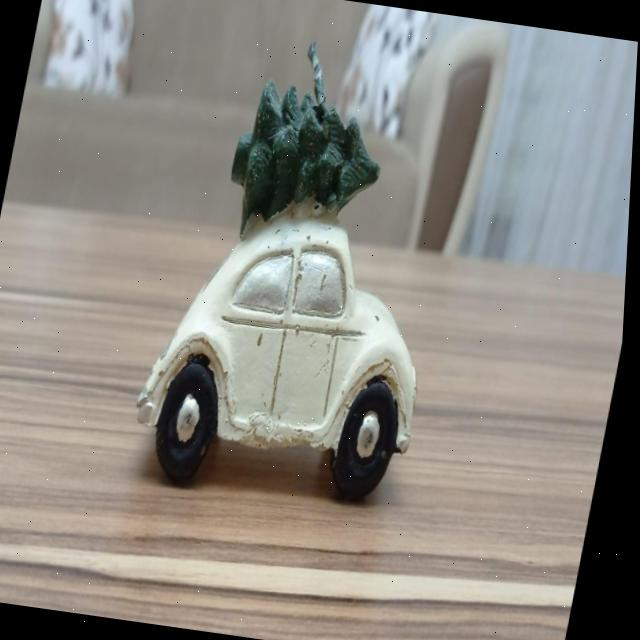vehicle: (117, 195, 457, 507)
